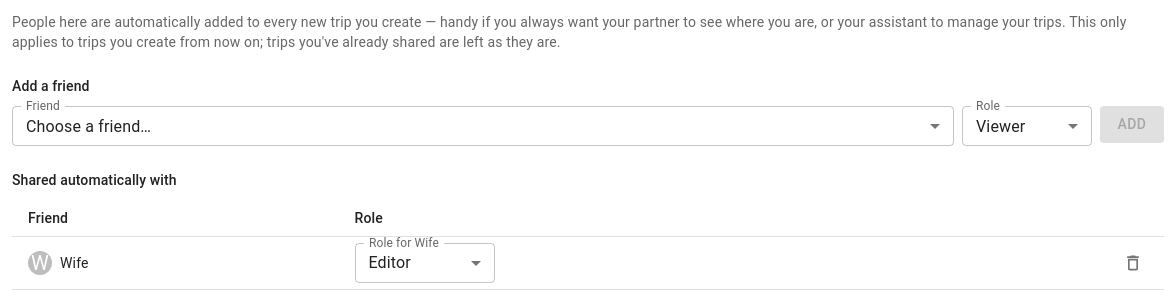
AutoShareSection › excludes already-shared friends from the add picker
What coordinates should you click on to do the following:
click the dropdown labelled "friend"
I would click on:
 (89, 126)
Its box is [26,116,151,136].
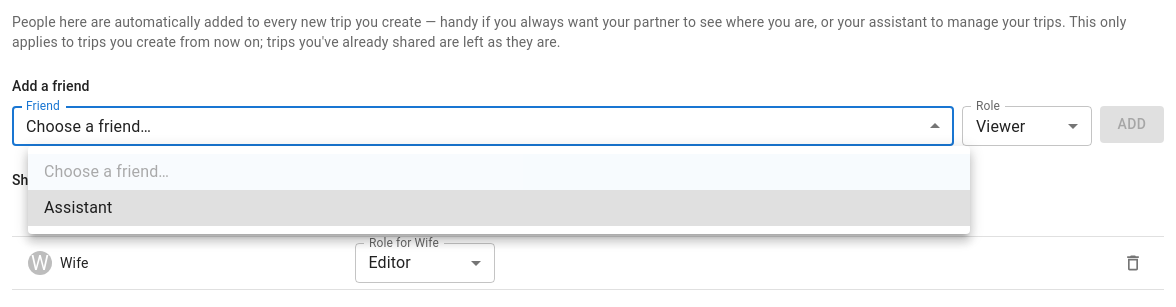
Expected: the option "Assistant" is shown, [28,190,970,226]
